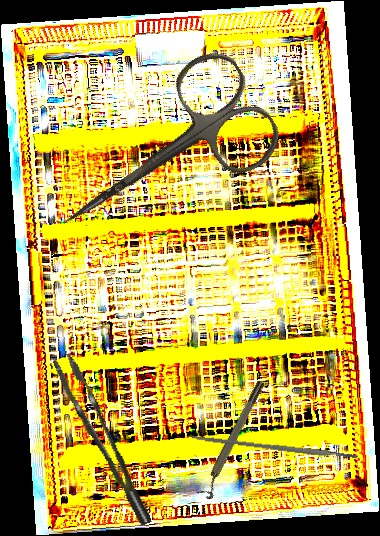Fixation Ring: (195, 379, 272, 501)
Iris Scissors: (28, 41, 291, 274)
Scalpel Handle: (191, 433, 358, 462)
Tissue Forceps: (52, 346, 152, 535)
